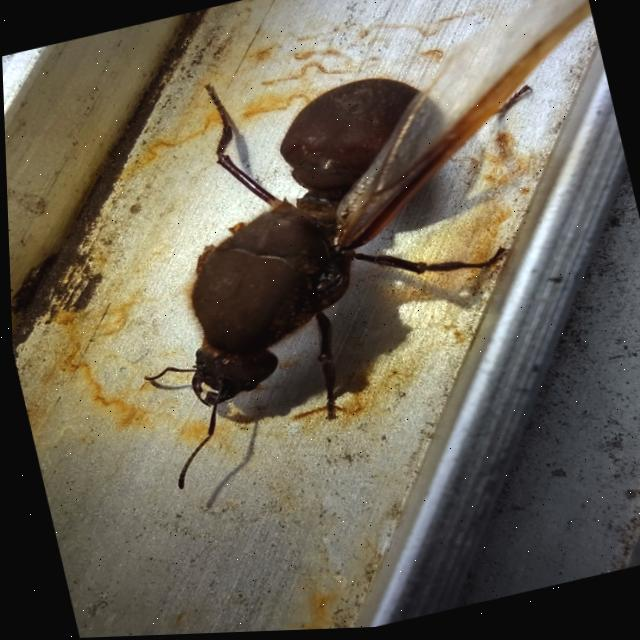Alive-Female-Alate: (68, 0, 640, 496)
